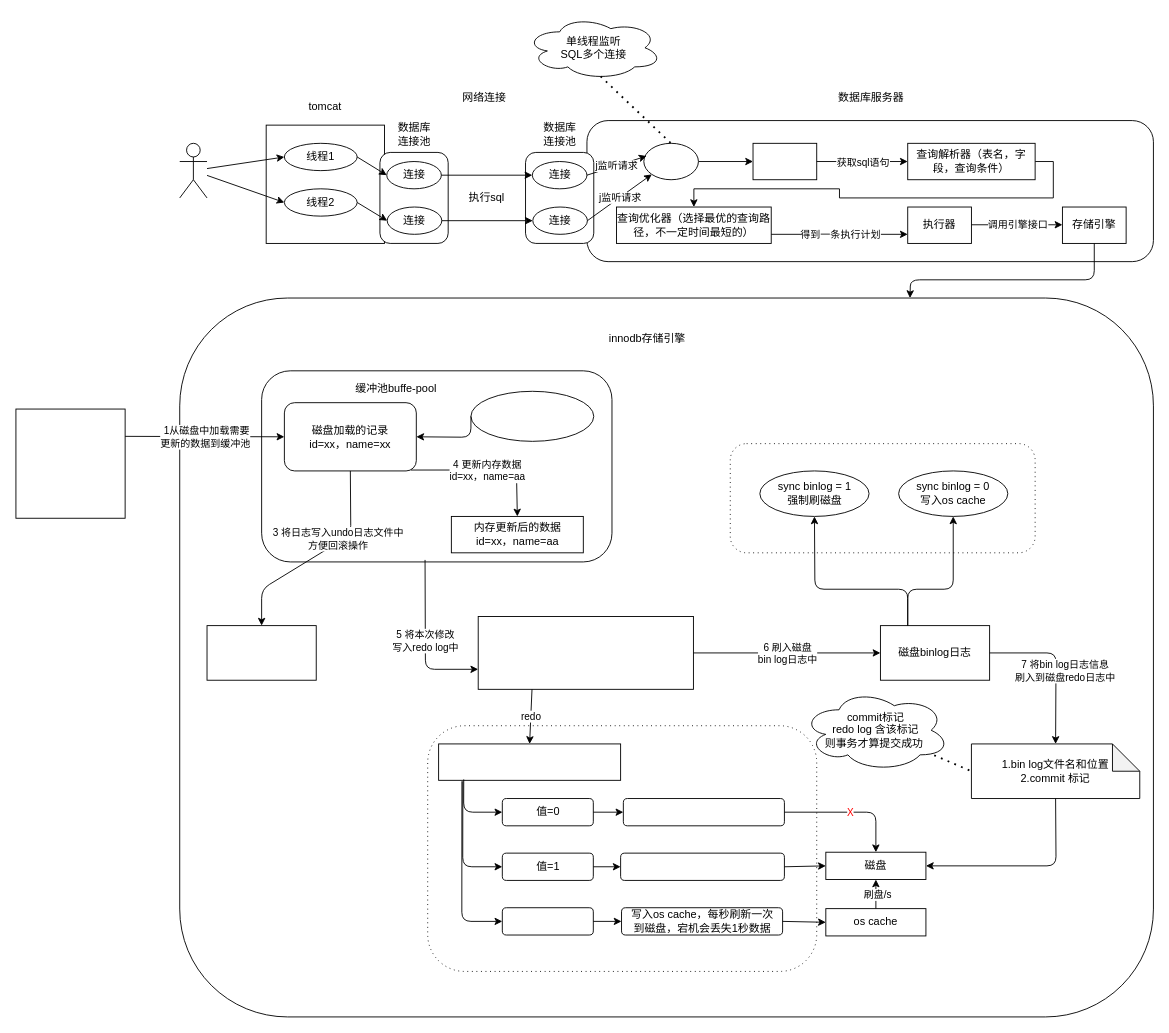
This 1169x1033 diagram has some shape labels left out. Each missing label, with the centre of its shape:
2先加独占锁 保证并发数据安全: the point at 532,415
Actor: the point at 193,170
innodb-flush-log-at-trx-commit: the point at 529,761
redo log buffer: the point at 585,652
SQL: the point at 784,161
undo日志文件: the point at 261,652
不会写入磁盘 宕机会导致提交的事务数据丢失: the point at 703,812
值=2: the point at 547,921
数据实时写入磁盘，零丢失 效率低: the point at 702,866
磁盘文件: the point at 70,463
线程: the point at 670,161
